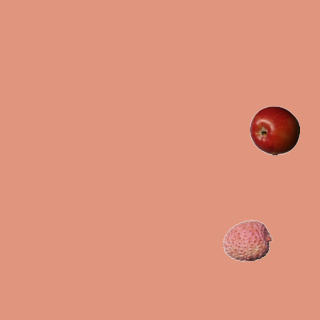Apple Braeburn: (249, 105, 299, 155)
Lychee: (222, 215, 272, 265)
